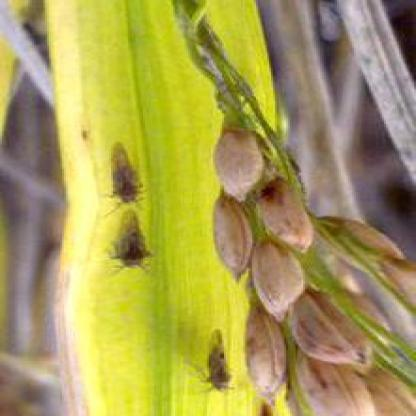brown-planthopper: (103, 140, 146, 205), (112, 210, 154, 270), (200, 326, 234, 394)
